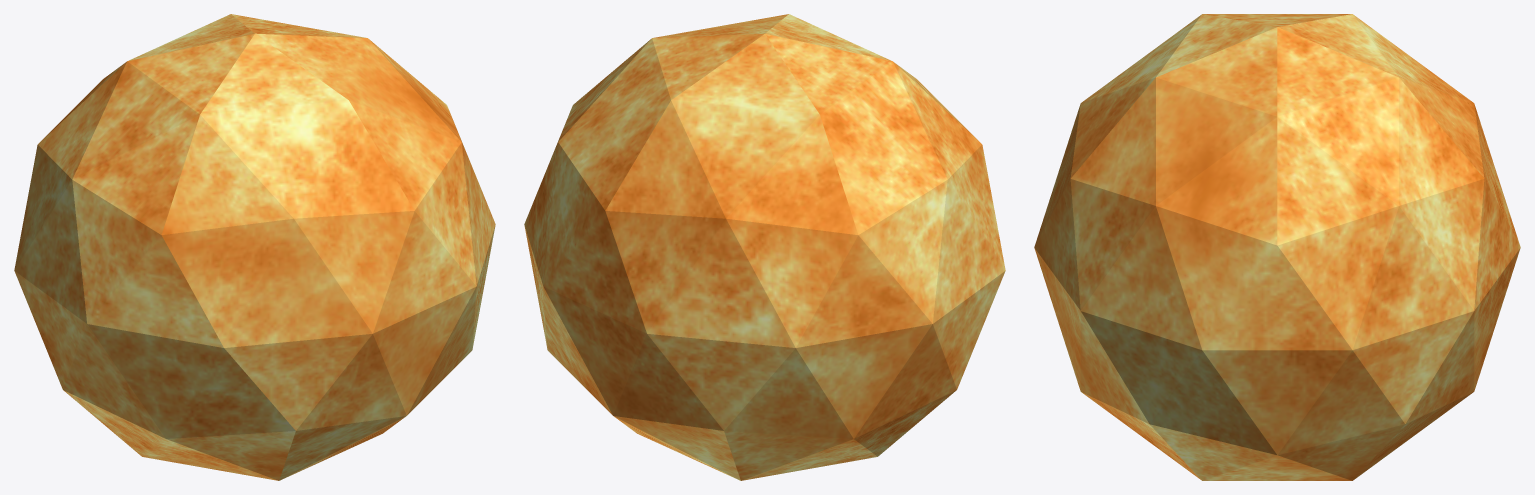
The model's file is fire.obj.
3 renders of one model, left to right at view 1: azimuth 30°, elevation 25°; view 2: azimuth 150°, elevation 25°; view 3: azimuth 270°, elevation 25°, orthographic. The views are drawn at different scales.
Parts seen in each view (by area): view 1: Icosphere; view 2: Icosphere; view 3: Icosphere.
Boxes of the visible parts, x1,y1,x2,y2 form: Icosphere: [14, 14, 495, 480]; Icosphere: [524, 14, 1005, 480]; Icosphere: [1034, 14, 1520, 480].
Size of the model in its own units: 1.2 by 1.2 by 1.2.
1 material, 1 textured.
